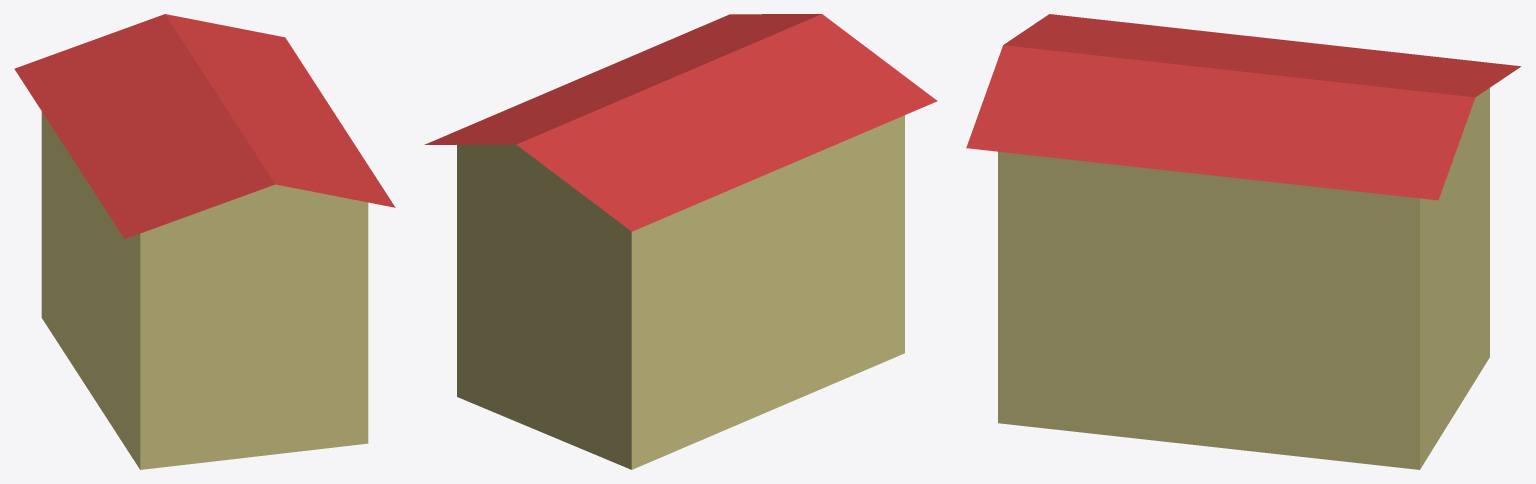
The picture shows the model from 3 angles, left to right: view 1: azimuth 30°, elevation 25°; view 2: azimuth 150°, elevation 25°; view 3: azimuth 270°, elevation 25°; orthographic projection. The views are drawn at different scales.
Visible parts, largest first — view 1: group_5, group_3; view 2: group_5, group_3; view 3: group_5, group_3.
Part boxes in pixels (<box>): group_5: <box>41,111,368,469</box>; group_3: <box>14,14,395,238</box>; group_5: <box>457,115,904,469</box>; group_3: <box>424,14,937,231</box>; group_5: <box>998,88,1489,469</box>; group_3: <box>966,14,1521,200</box>.
Size of the model in its own units: 12.73 by 16.03 by 10.39.
